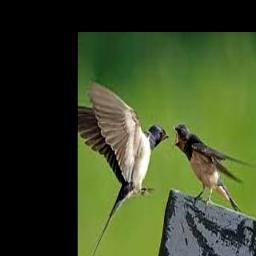Swallow: (78, 80, 169, 256), (172, 123, 254, 212)
